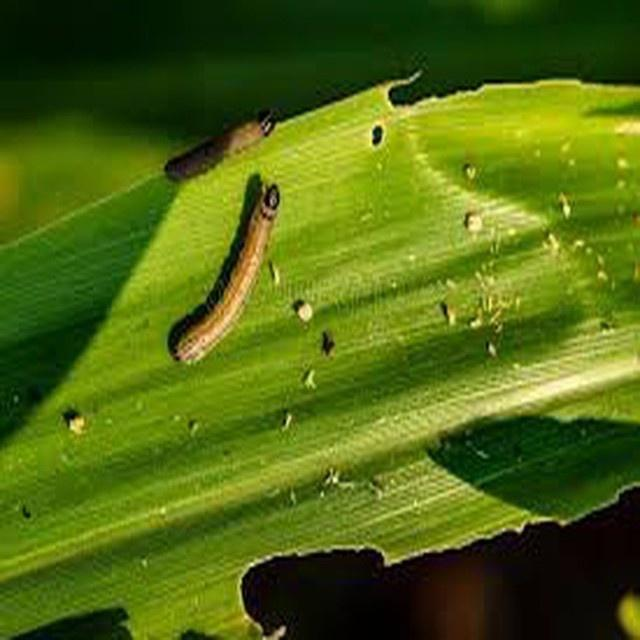gusano_cogollero: (168, 188, 285, 362), (165, 116, 280, 176)
